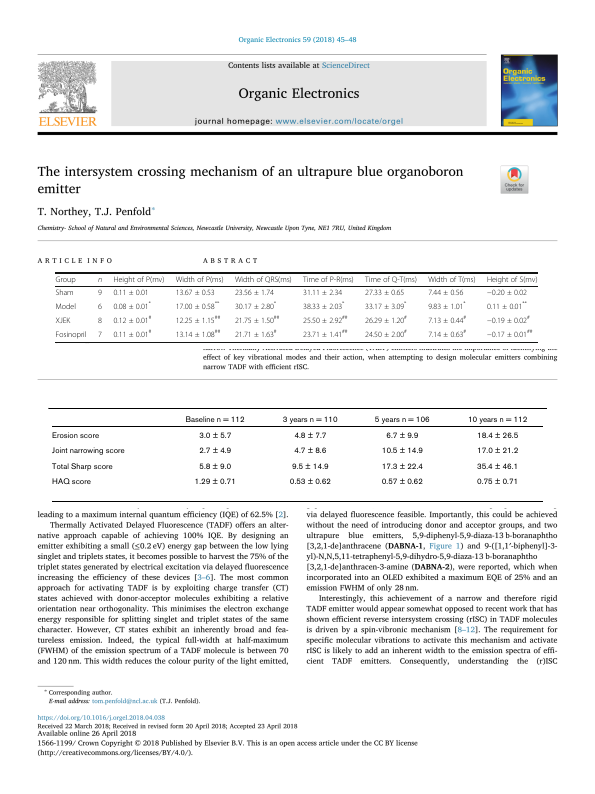borderless: (47, 406, 543, 501), (55, 271, 538, 342)
cell: (50, 447, 125, 457), (50, 462, 113, 472), (466, 415, 528, 425), (184, 415, 245, 425), (281, 415, 338, 425), (373, 415, 430, 425), (234, 275, 293, 284), (486, 328, 533, 339), (175, 314, 221, 325), (234, 314, 280, 325), (302, 314, 348, 325), (175, 328, 221, 339), (302, 328, 348, 339), (175, 300, 220, 311), (486, 314, 531, 325), (50, 431, 99, 441), (364, 275, 418, 284), (364, 314, 408, 325), (234, 328, 278, 339), (364, 328, 408, 339), (112, 275, 165, 284), (302, 275, 355, 284), (234, 300, 277, 311), (302, 300, 345, 311), (364, 300, 407, 311), (486, 275, 538, 284), (486, 300, 528, 311), (427, 275, 477, 284), (175, 275, 224, 284), (112, 300, 152, 311), (427, 300, 467, 311), (112, 314, 152, 325), (427, 314, 467, 325), (112, 328, 152, 339), (427, 328, 467, 339), (475, 431, 519, 441), (475, 447, 519, 457), (475, 462, 519, 472), (475, 478, 519, 488), (380, 447, 423, 457), (380, 462, 423, 472), (193, 478, 236, 488), (288, 478, 331, 488), (380, 478, 423, 488), (50, 478, 91, 488), (290, 462, 329, 472), (486, 288, 528, 297), (175, 288, 216, 297), (234, 288, 275, 297), (302, 288, 343, 297), (364, 288, 405, 297), (112, 288, 150, 297), (198, 431, 232, 441), (293, 431, 327, 441), (385, 431, 419, 441), (198, 447, 232, 457), (293, 447, 327, 457), (198, 462, 232, 472), (427, 288, 464, 297), (55, 330, 87, 339), (55, 302, 77, 311), (55, 275, 76, 284), (55, 288, 74, 297), (55, 316, 71, 325), (97, 288, 103, 297), (97, 302, 103, 311), (97, 316, 103, 325), (97, 330, 103, 339), (97, 277, 103, 283)
